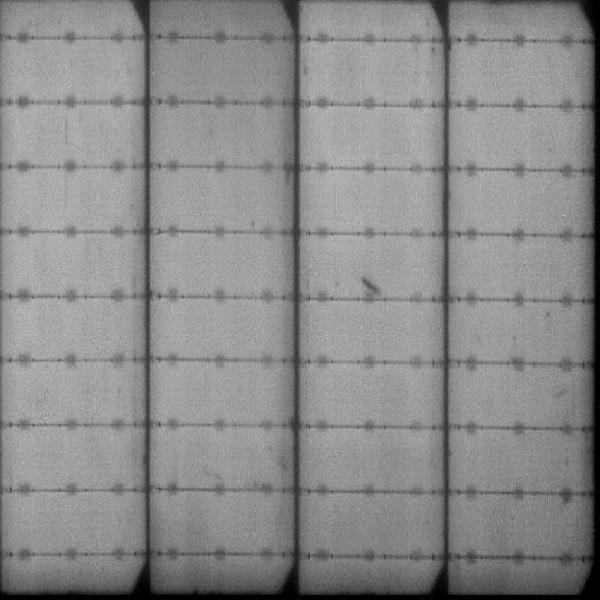scratch: (359, 275, 382, 296)
